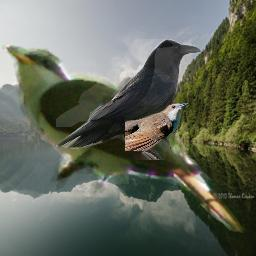Crow: (56, 39, 202, 160)
Cuckoo: (0, 45, 247, 233), (125, 103, 188, 151)
